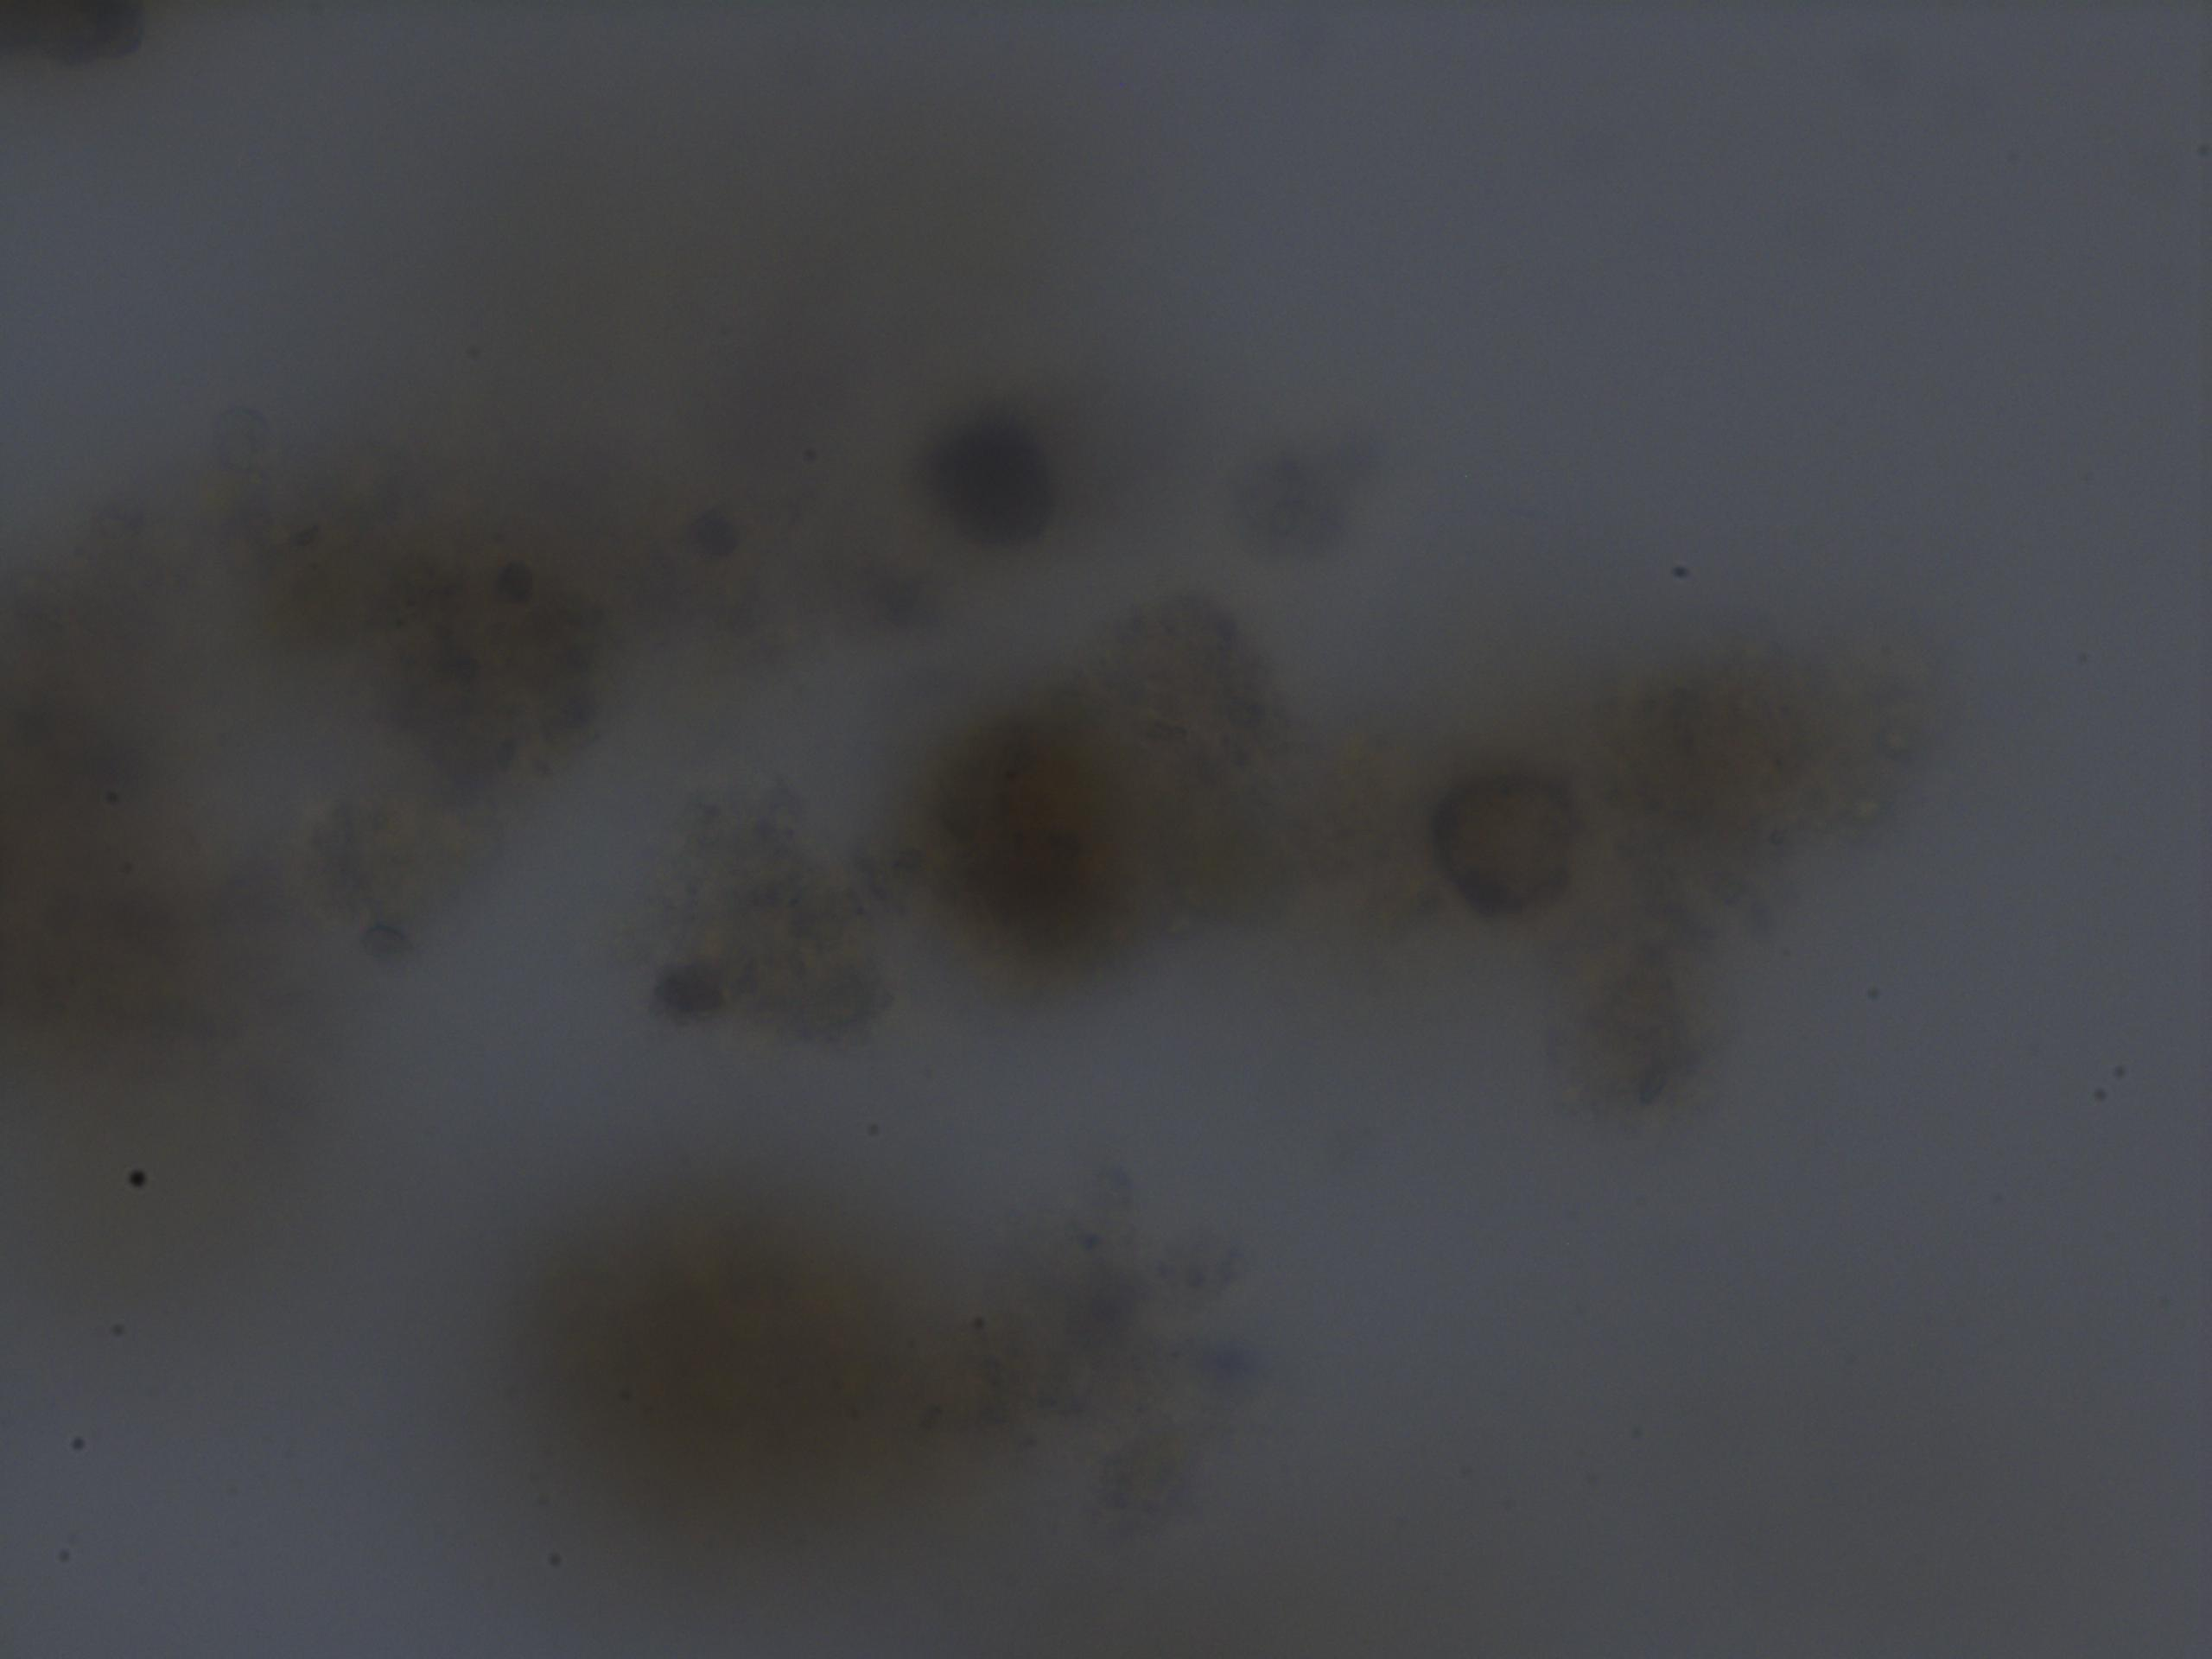open_floc: (0, 267, 1897, 1659)
